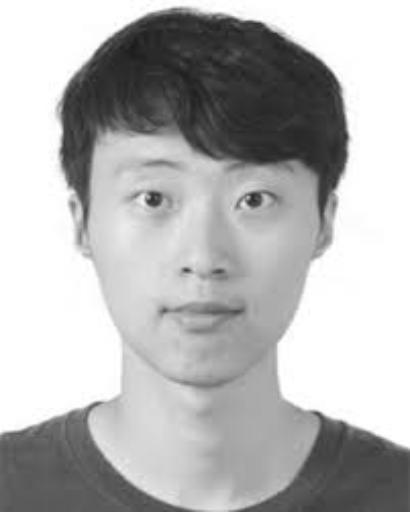left_eye: (232, 188, 283, 215)
left_lip_corner: (231, 304, 248, 322)
right_eye: (125, 188, 181, 215)
right_lip_corner: (158, 302, 182, 324)
